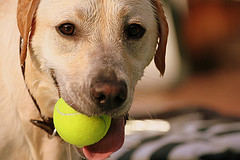tennis ball: (51, 97, 112, 148)
